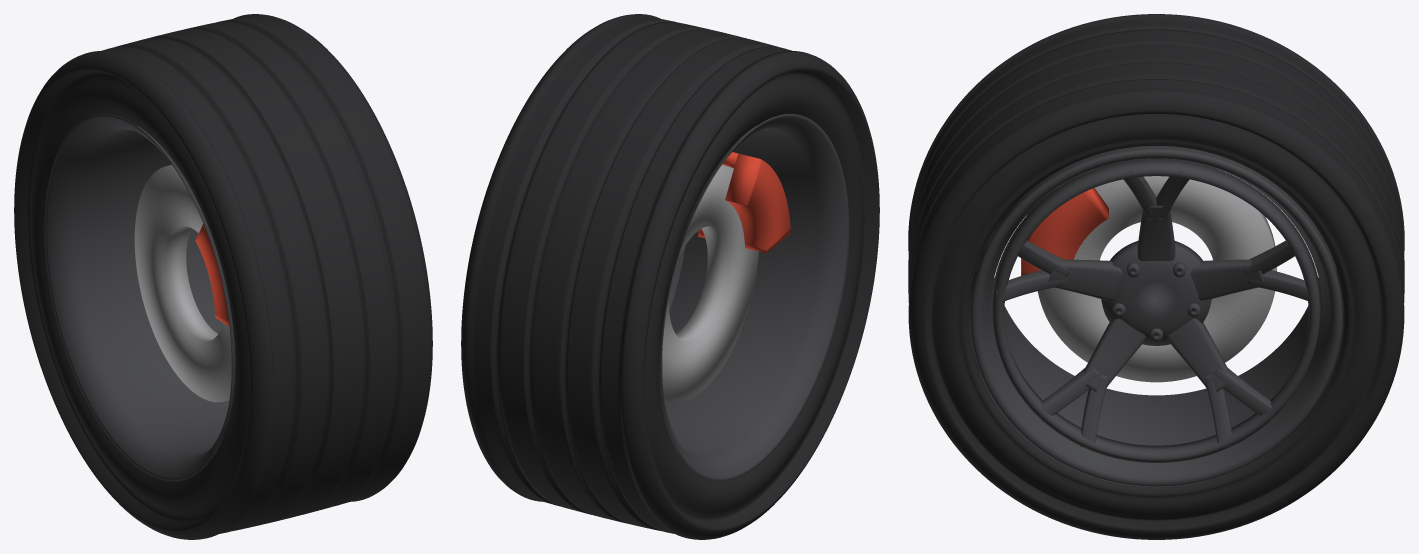
The model's file is wheel_RR.fbx.
3 renders of one model, left to right at view 1: azimuth 30°, elevation 25°; view 2: azimuth 150°, elevation 25°; view 3: azimuth 270°, elevation 25°, orthographic.
Visible parts, largest first — view 1: CH_Wheel_RR_Tire, CH_Wheel_RR_Rim, CH_Wheel_RR_Disc, CH_Wheel_RR_Caliper; view 2: CH_Wheel_RR_Tire, CH_Wheel_RR_Rim, CH_Wheel_RR_Disc, CH_Wheel_RR_Caliper; view 3: CH_Wheel_RR_Tire, CH_Wheel_RR_Rim, CH_Wheel_RR_Disc, CH_Wheel_RR_Caliper.
Part boxes in pixels (x1,y1,x2,y2): CH_Wheel_RR_Tire: (14, 14, 432, 539); CH_Wheel_RR_Rim: (44, 114, 235, 481); CH_Wheel_RR_Disc: (134, 165, 231, 402); CH_Wheel_RR_Caliper: (195, 224, 229, 326); CH_Wheel_RR_Tire: (461, 14, 879, 539); CH_Wheel_RR_Rim: (658, 114, 849, 481); CH_Wheel_RR_Disc: (662, 165, 758, 402); CH_Wheel_RR_Caliper: (698, 152, 790, 253); CH_Wheel_RR_Tire: (908, 14, 1404, 539); CH_Wheel_RR_Rim: (970, 146, 1342, 487); CH_Wheel_RR_Disc: (1037, 159, 1276, 382); CH_Wheel_RR_Caliper: (1021, 172, 1108, 275).
Size of the model in its own units: 0.3045 by 0.7215 by 0.7215.
